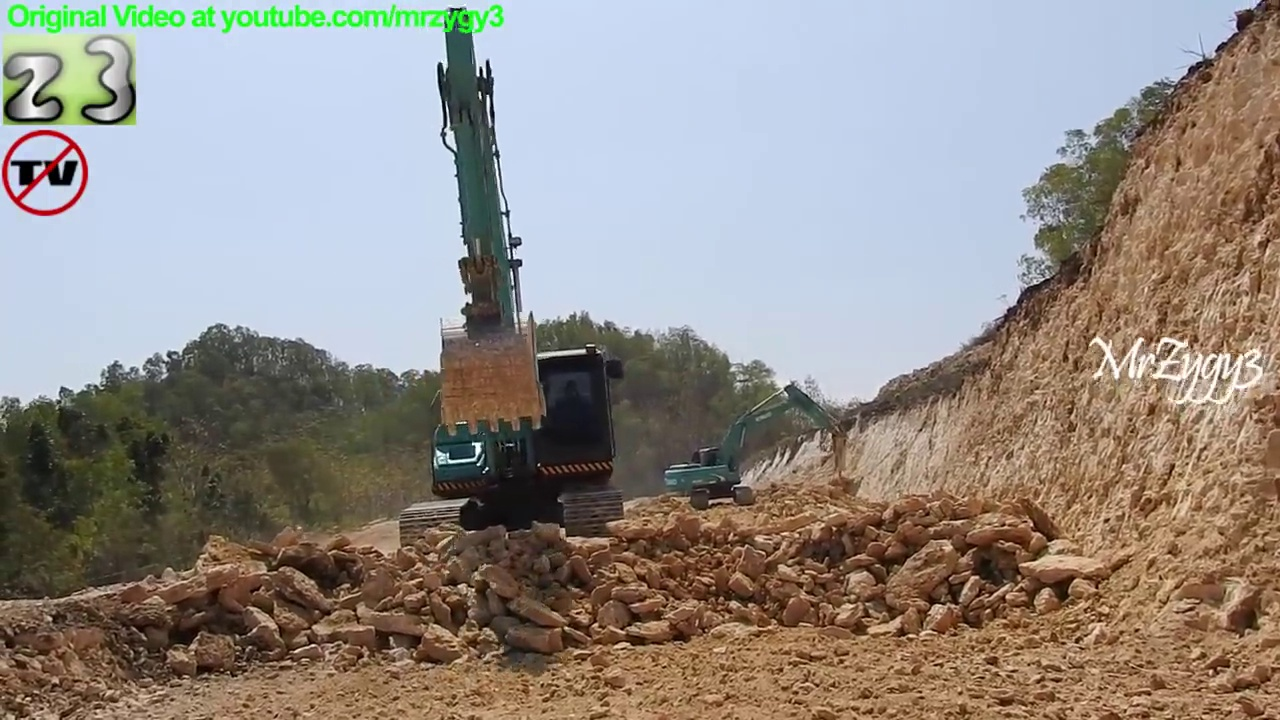excavator: (393, 1, 636, 564)
excavator breaker: (658, 378, 857, 514)
